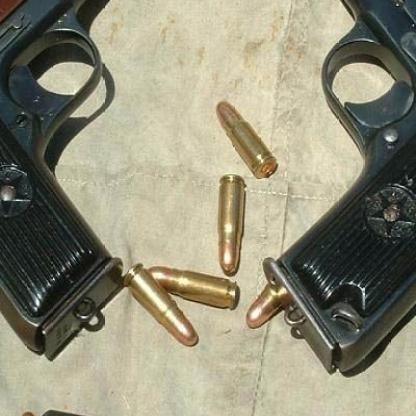gun: (0, 0, 216, 370), (242, 0, 415, 393)
